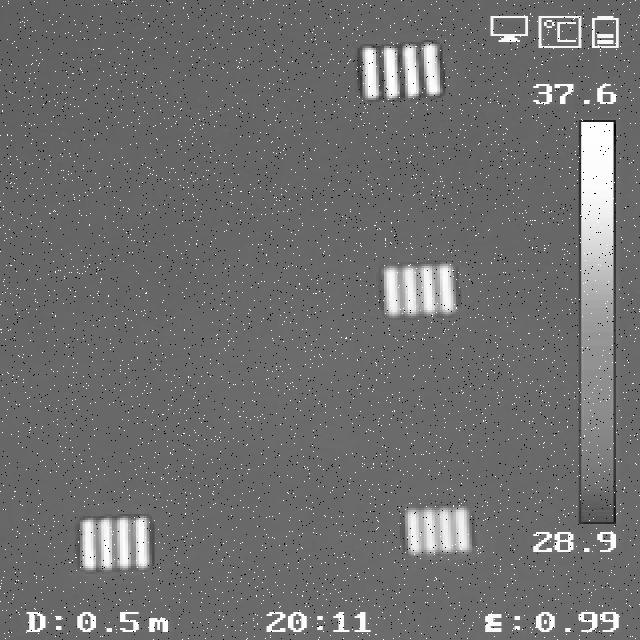Distinguishable 4-bar target: (363, 42, 444, 99), (383, 264, 456, 316), (77, 520, 152, 570), (403, 508, 472, 554)
